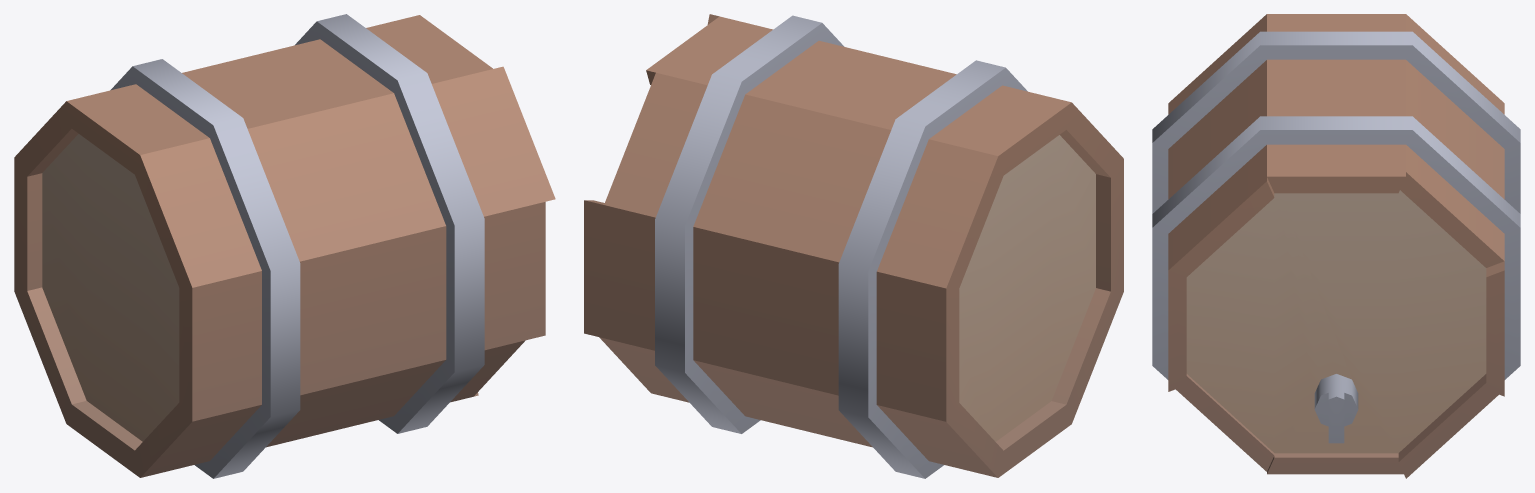
Rendered from barrel.glb.
3 renders of one model, left to right at view 1: azimuth 30°, elevation 25°; view 2: azimuth 150°, elevation 25°; view 3: azimuth 270°, elevation 25°, orthographic. The views are drawn at different scales.
Visible parts, largest first — view 1: barrel; view 2: barrel; view 3: barrel.
Part boxes in pixels (x1,y1,x2,y2): barrel: (14, 14, 555, 478); barrel: (584, 14, 1123, 478); barrel: (1152, 14, 1520, 478).
Bounding box in the file's own units: 0.76 × 0.6789 × 0.6789.
